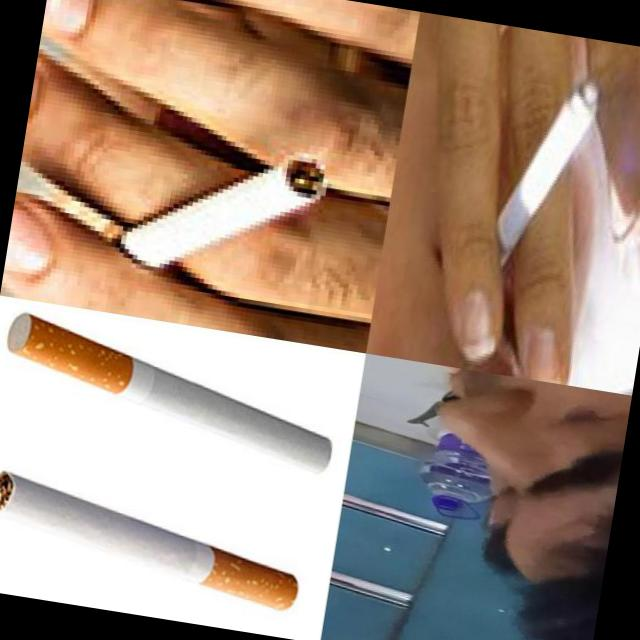smoke: (0, 311, 344, 478), (85, 120, 332, 314), (0, 470, 309, 613), (474, 70, 602, 305)
